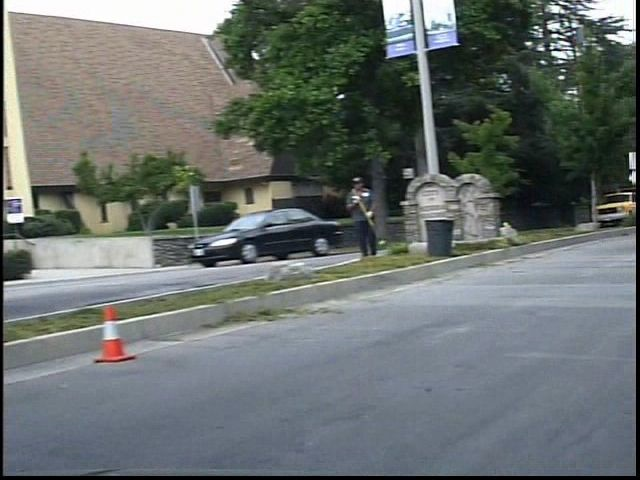person: (355, 173, 395, 264)
